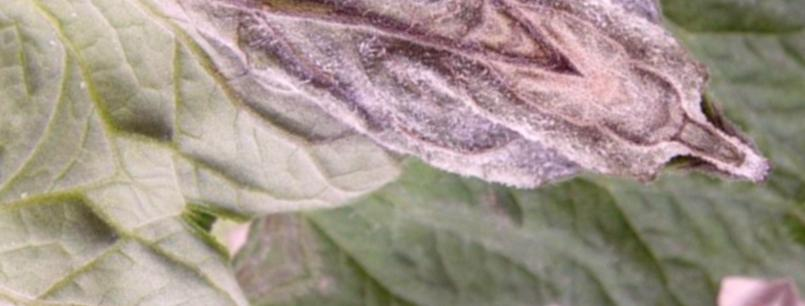Tomato leaf late blight: (0, 0, 779, 306)
